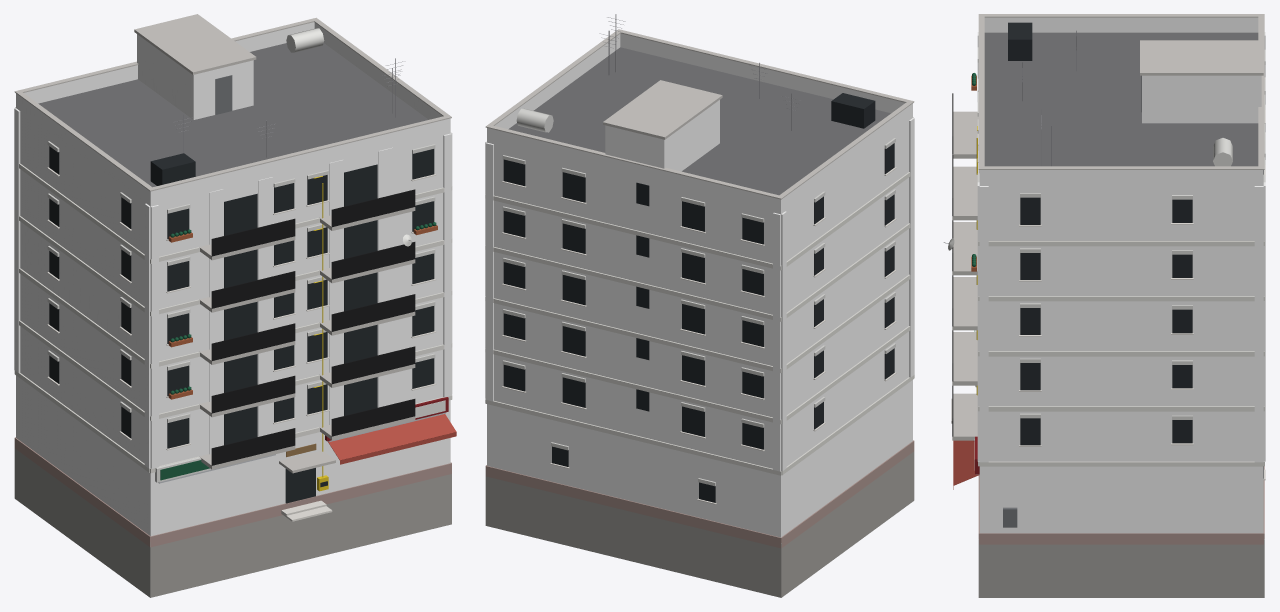
The model's file is bina_01.glb.
3 views of the same model, side by side, from view 1: azimuth 30°, elevation 25°; view 2: azimuth 150°, elevation 25°; view 3: azimuth 270°, elevation 25° (orthographic). The views are drawn at different scales.
Visible parts, largest first — view 1: P01_Apt_Dukkanli_B_L1.001; view 2: P01_Apt_Dukkanli_B_L1.001; view 3: P01_Apt_Dukkanli_B_L1.001.
Boxes of the visible parts, x1,y1,x2,y2 form: P01_Apt_Dukkanli_B_L1.001: (14, 14, 456, 597); P01_Apt_Dukkanli_B_L1.001: (485, 14, 914, 597); P01_Apt_Dukkanli_B_L1.001: (943, 14, 1265, 597).
Bounding box in the file's own units: 18.31 × 25.85 × 15.91.
